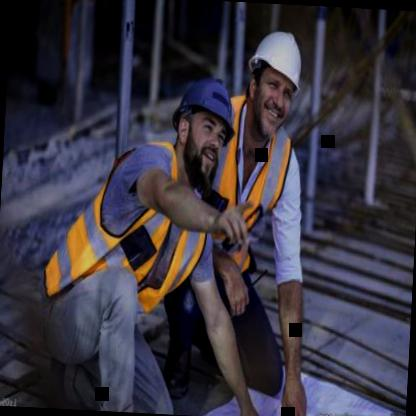helmet: (239, 16, 312, 138), (166, 70, 240, 182)
